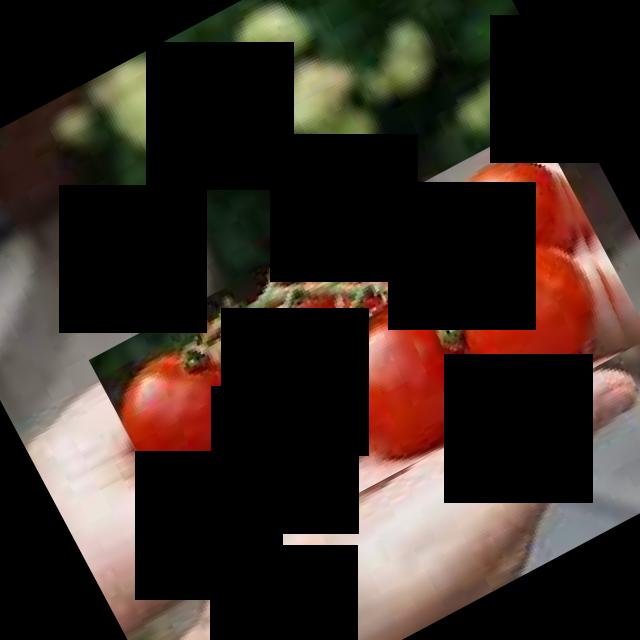tomatoes: (88, 121, 640, 575)
